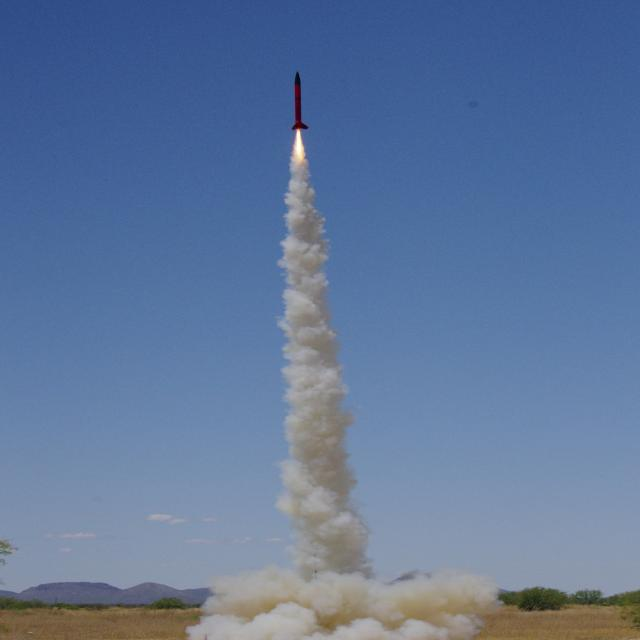Rocket: (291, 70, 309, 130)
